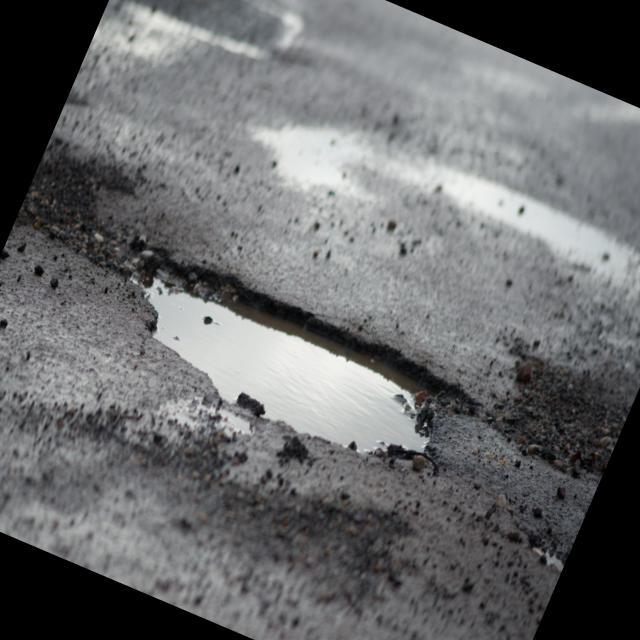Pothole: (105, 220, 491, 498)
